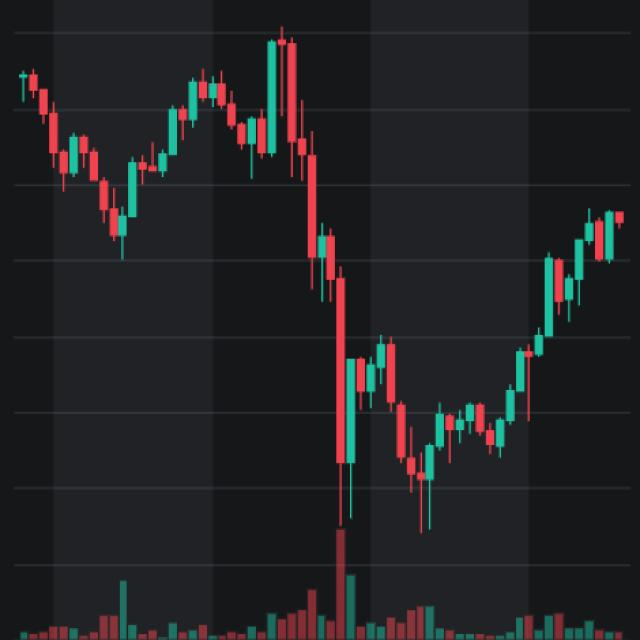Triangle: (300, 182, 531, 593)
